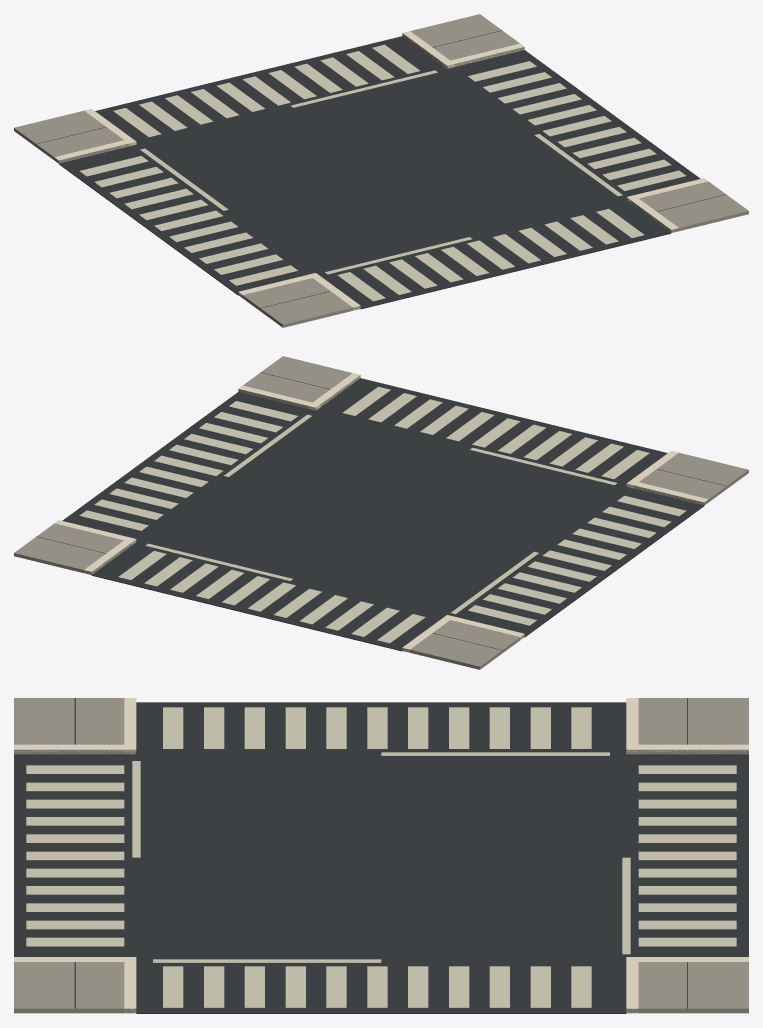
File: oc_road_junction_01.glb
3 views of the same model, one above another, from view 1: azimuth 30°, elevation 25°; view 2: azimuth 150°, elevation 25°; view 3: azimuth 270°, elevation 25° (orthographic). The views are drawn at different scales.
Parts seen in each view (by area): view 1: LOD1_OC_Asphalt, LOD1_OC_Line_White, LOD1_OC_Concrete, LOD1_OC_Stucco_Ivory; view 2: LOD1_OC_Asphalt, LOD1_OC_Line_White, LOD1_OC_Concrete, LOD1_OC_Stucco_Ivory; view 3: LOD1_OC_Asphalt, LOD1_OC_Line_White, LOD1_OC_Concrete, LOD1_OC_Stucco_Ivory.
Part boxes in pixels (x1,y1,x2,y2): LOD1_OC_Asphalt: [59, 36, 700, 309]; LOD1_OC_Line_White: [79, 44, 686, 301]; LOD1_OC_Concrete: [14, 14, 748, 327]; LOD1_OC_Stucco_Ivory: [54, 31, 708, 310]; LOD1_OC_Asphalt: [62, 378, 703, 651]; LOD1_OC_Line_White: [79, 386, 686, 643]; LOD1_OC_Concrete: [14, 356, 748, 669]; LOD1_OC_Stucco_Ivory: [54, 373, 708, 652]; LOD1_OC_Asphalt: [14, 702, 748, 1013]; LOD1_OC_Line_White: [26, 707, 736, 1007]; LOD1_OC_Concrete: [14, 698, 748, 1013]; LOD1_OC_Stucco_Ivory: [14, 698, 748, 1013].
Size of the model in its own units: 18 by 0.1431 by 18.
